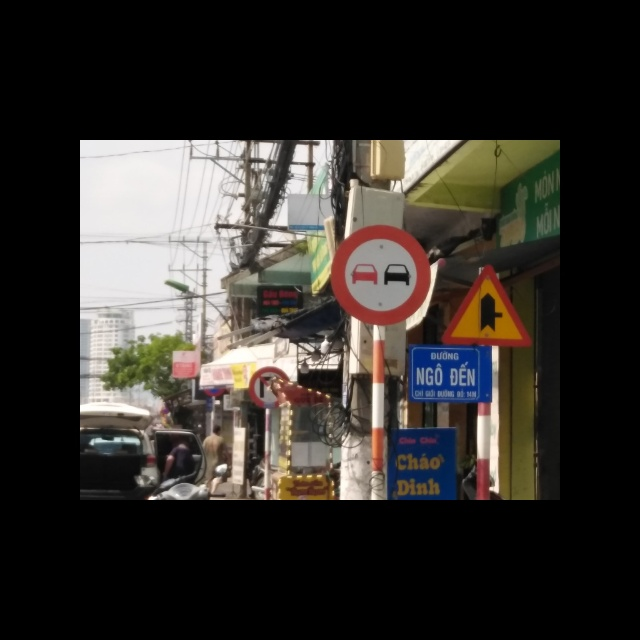Cấm vượt: (326, 222, 429, 325)
Giao nhau với đường không ưu tiên: (442, 262, 533, 347)
